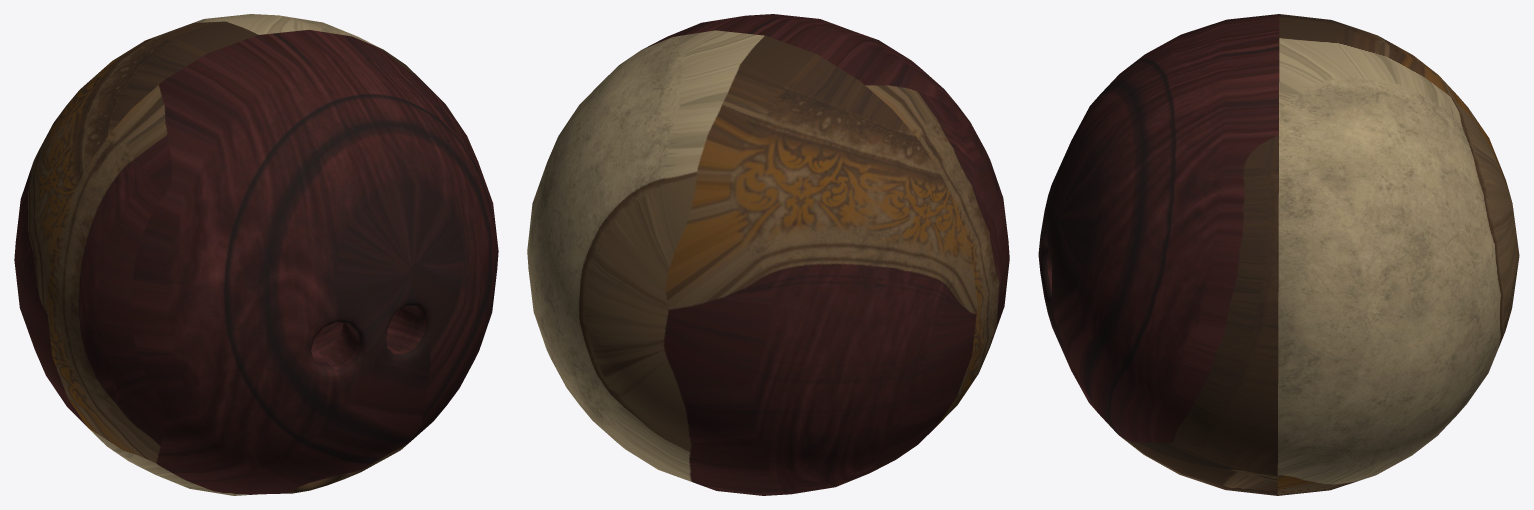
File: BowlingBall.fbx
3 views of the same model, side by side, from view 1: azimuth 30°, elevation 25°; view 2: azimuth 150°, elevation 25°; view 3: azimuth 270°, elevation 25° (orthographic).
Visible parts, largest first — view 1: g; view 2: g; view 3: g.
Part boxes in pixels (x1,y1,x2,y2): g: (14,14,498,495); g: (527,14,1009,495); g: (1038,14,1519,495).
Size of the model in its own units: 200 by 200 by 200.
